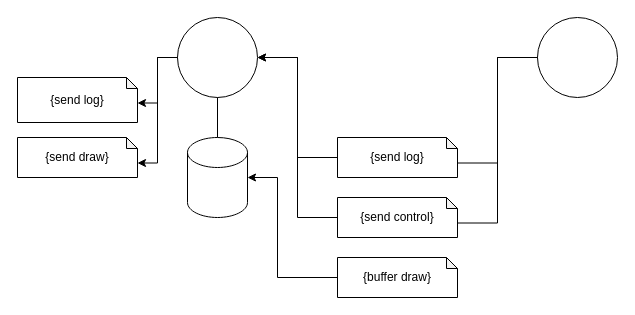
Image size: 635x315. Some labels were removed from this diagram. The centre of each missing label's shape, as x and y in pixels:
"animator" belongs at (577,57).
"buffer" belongs at (217,177).
"channel" belongs at (217,57).
